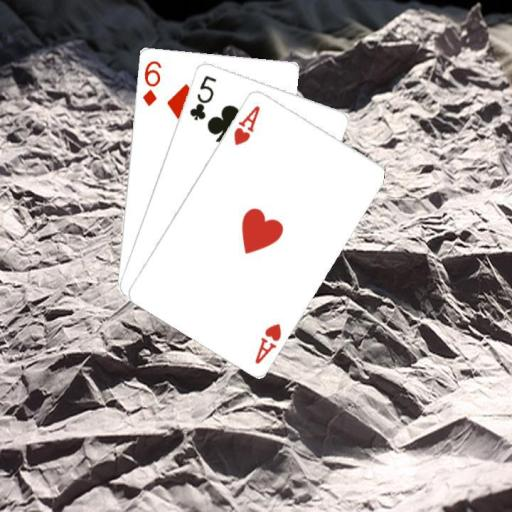5C: (186, 71, 218, 122)
6D: (139, 57, 163, 107)
AH: (251, 320, 283, 366), (230, 102, 262, 147)
